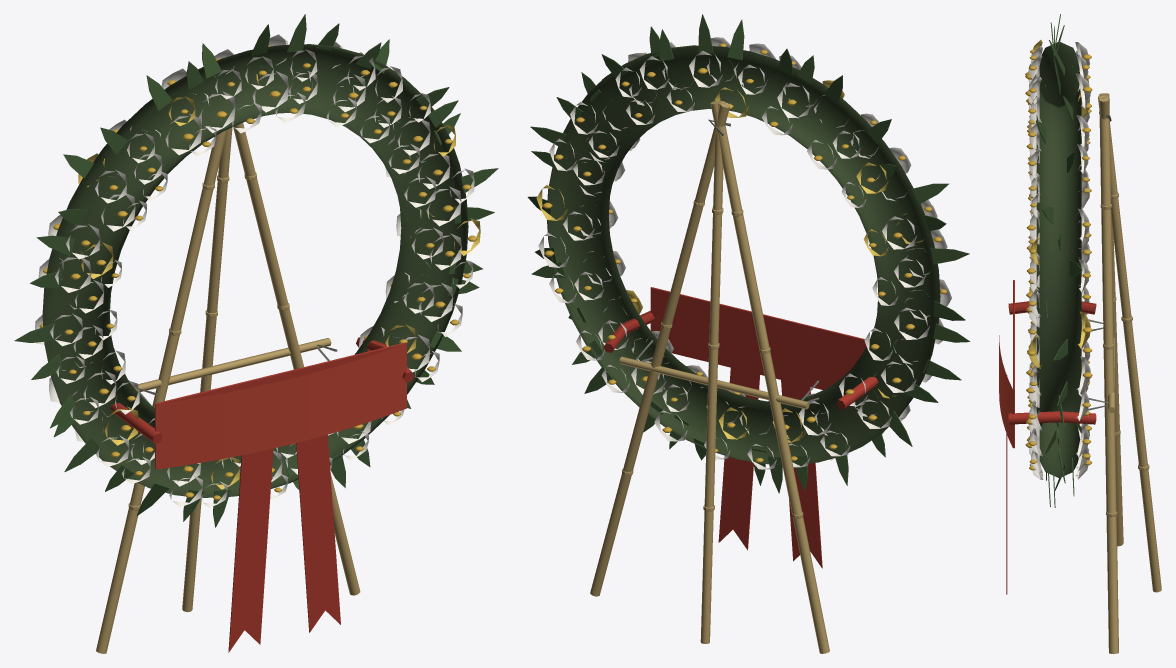
File: VongHoa_Tuoi.glb
3 views of the same model, side by side, from view 1: azimuth 30°, elevation 25°; view 2: azimuth 150°, elevation 25°; view 3: azimuth 270°, elevation 25° (orthographic). The views are drawn at different scales.
Visible parts, largest first — view 1: VongHoa_Tuoi; view 2: VongHoa_Tuoi; view 3: VongHoa_Tuoi.
Part boxes in pixels (x1,y1,x2,y2): VongHoa_Tuoi: [14, 14, 498, 653]; VongHoa_Tuoi: [527, 14, 970, 653]; VongHoa_Tuoi: [999, 14, 1161, 653].
Bounding box in the file's own units: 1.06 × 1.33 × 0.3507.
